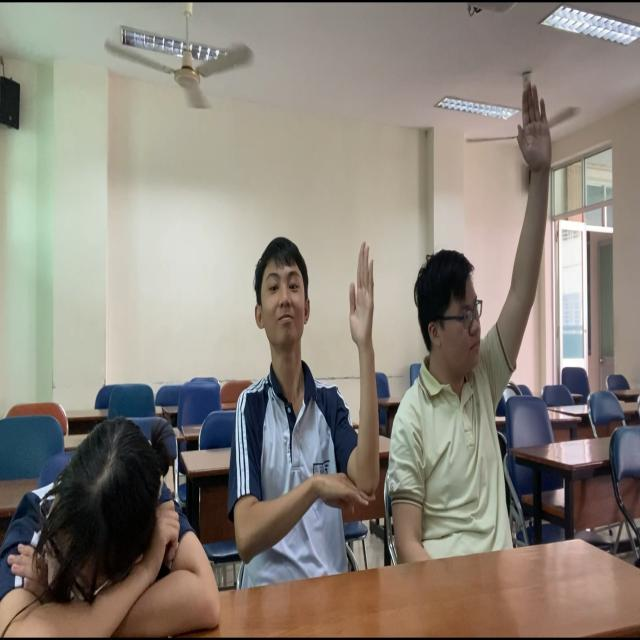raise_hand: (388, 80, 552, 571), (227, 235, 384, 586)
sleep: (6, 416, 223, 640)
